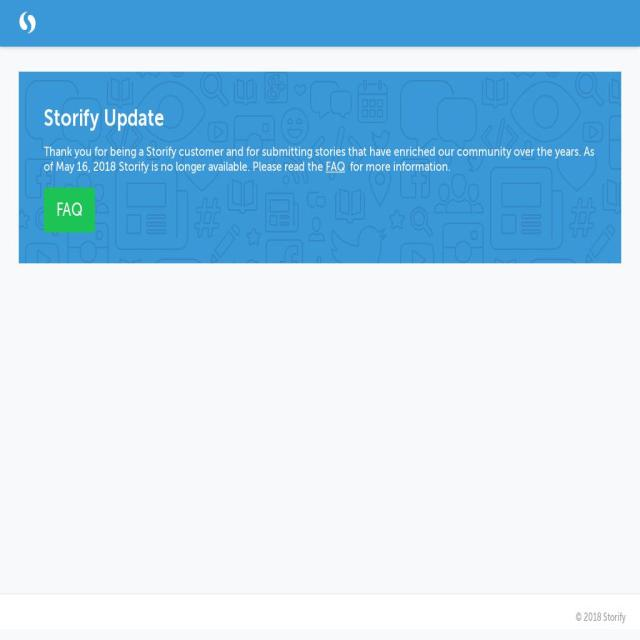button: (44, 188, 95, 232)
heading: (44, 105, 294, 131)
image: (0, 0, 640, 47)
link: (326, 159, 345, 174)
text: (44, 144, 594, 174), (345, 159, 451, 174), (576, 612, 626, 623)
